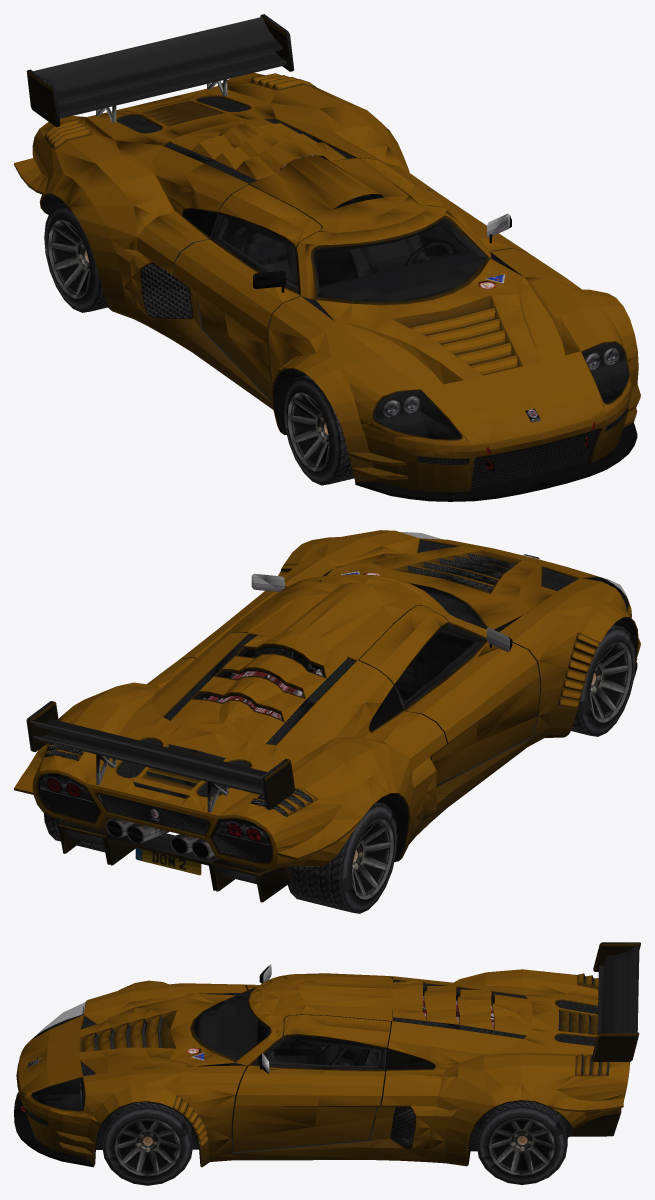
Rendered from factory_gt.glb.
The picture shows the model from 3 angles, top to bottom: view 1: azimuth 30°, elevation 25°; view 2: azimuth 150°, elevation 25°; view 3: azimuth 270°, elevation 25°; orthographic projection. The views are drawn at different scales.
Parts seen in each view (by area): view 1: mesh_4_55.nr, mesh_4_56.nr, mesh_4_57.nr, mesh_4_64.nr, mesh_4_58.nr, mesh_4_68.nr, mesh_4_61.nr; view 2: mesh_4_55.nr, mesh_4_56.nr, mesh_4_68.nr, mesh_4_59.nr, mesh_4_64.nr, mesh_4_57.nr; view 3: mesh_4_55.nr, mesh_4_56.nr, mesh_4_70.nr, mesh_4_66.nr, mesh_4_57.nr, mesh_4_58.nr, mesh_4_59.nr.
Part boxes in pixels (x1=…): mesh_4_55.nr: x1=14, y1=73, x2=640, y2=492; mesh_4_56.nr: x1=26, y1=14, x2=640, y2=501; mesh_4_57.nr: x1=213, y1=215, x2=486, y2=301; mesh_4_64.nr: x1=283, y1=375, x2=354, y2=485; mesh_4_58.nr: x1=375, y1=343, x2=628, y2=438; mesh_4_68.nr: x1=44, y1=203, x2=107, y2=312; mesh_4_61.nr: x1=383, y1=348, x2=619, y2=418; mesh_4_55.nr: x1=14, y1=530, x2=640, y2=869; mesh_4_56.nr: x1=26, y1=541, x2=640, y2=882; mesh_4_68.nr: x1=287, y1=802, x2=397, y2=913; mesh_4_59.nr: x1=47, y1=777, x2=290, y2=902; mesh_4_64.nr: x1=557, y1=624, x2=635, y2=736; mesh_4_57.nr: x1=396, y1=582, x2=485, y2=706; mesh_4_55.nr: x1=16, y1=965, x2=629, y2=1167; mesh_4_56.nr: x1=14, y1=942, x2=640, y2=1167; mesh_4_70.nr: x1=476, y1=1101, x2=567, y2=1184; mesh_4_66.nr: x1=102, y1=1102, x2=193, y2=1185; mesh_4_57.nr: x1=194, y1=987, x2=269, y2=1059; mesh_4_58.nr: x1=32, y1=1002, x2=85, y2=1110; mesh_4_59.nr: x1=570, y1=1109, x2=621, y2=1136.
Bounding box in the file's own units: 2.09 × 1.14 × 4.51.
2 materials, 2 textured.
